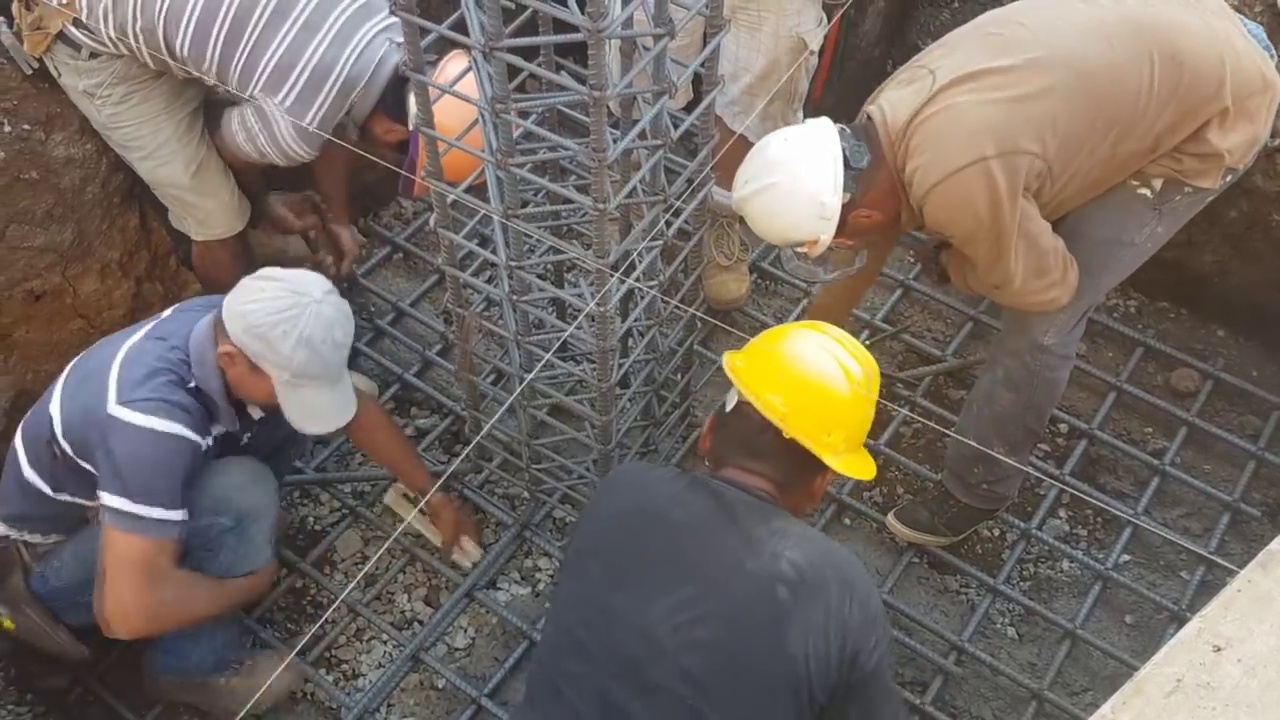helmet: (724, 316, 884, 485), (724, 95, 846, 256), (412, 51, 502, 195)
helmet-off: (203, 262, 366, 438)
helmet-on: (691, 323, 888, 526), (727, 102, 926, 259), (350, 33, 521, 199)
person: (721, 7, 1280, 530), (0, 258, 470, 705), (509, 316, 896, 720), (18, 2, 520, 255), (601, 2, 838, 311)
